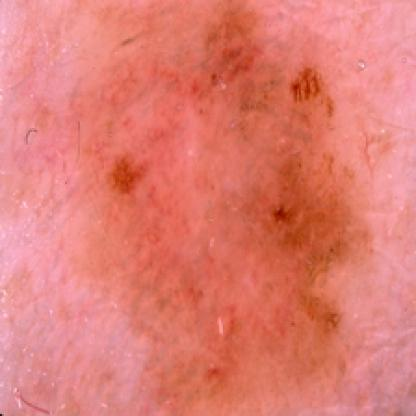malignant: (102, 32, 355, 273)
